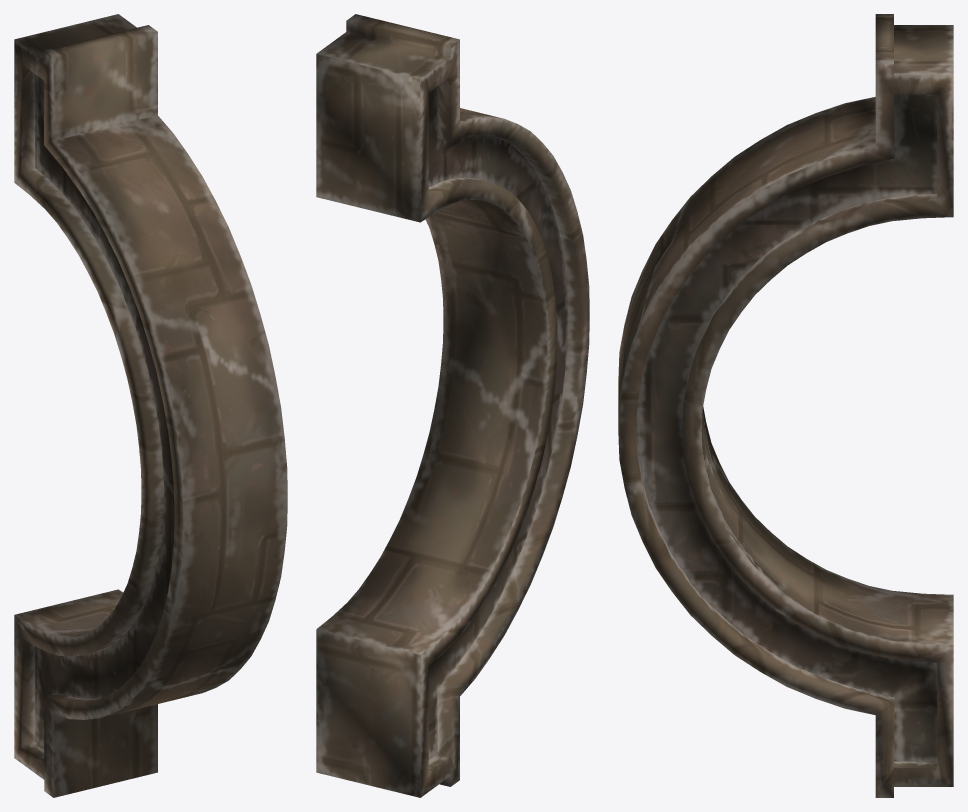
File: arco 2.fbx
3 renders of one model, left to right at view 1: azimuth 30°, elevation 25°; view 2: azimuth 150°, elevation 25°; view 3: azimuth 270°, elevation 25°, orthographic.
Visible parts, largest first — view 1: arco 2; view 2: arco 2; view 3: arco 2.
Part boxes in pixels (x1,y1,x2,y2): arco 2: (14,14,287,797); arco 2: (316,14,589,797); arco 2: (618,14,953,797).
Bounding box in the file's own units: 28.61 × 194 × 80.45.
1 material, 1 textured.
